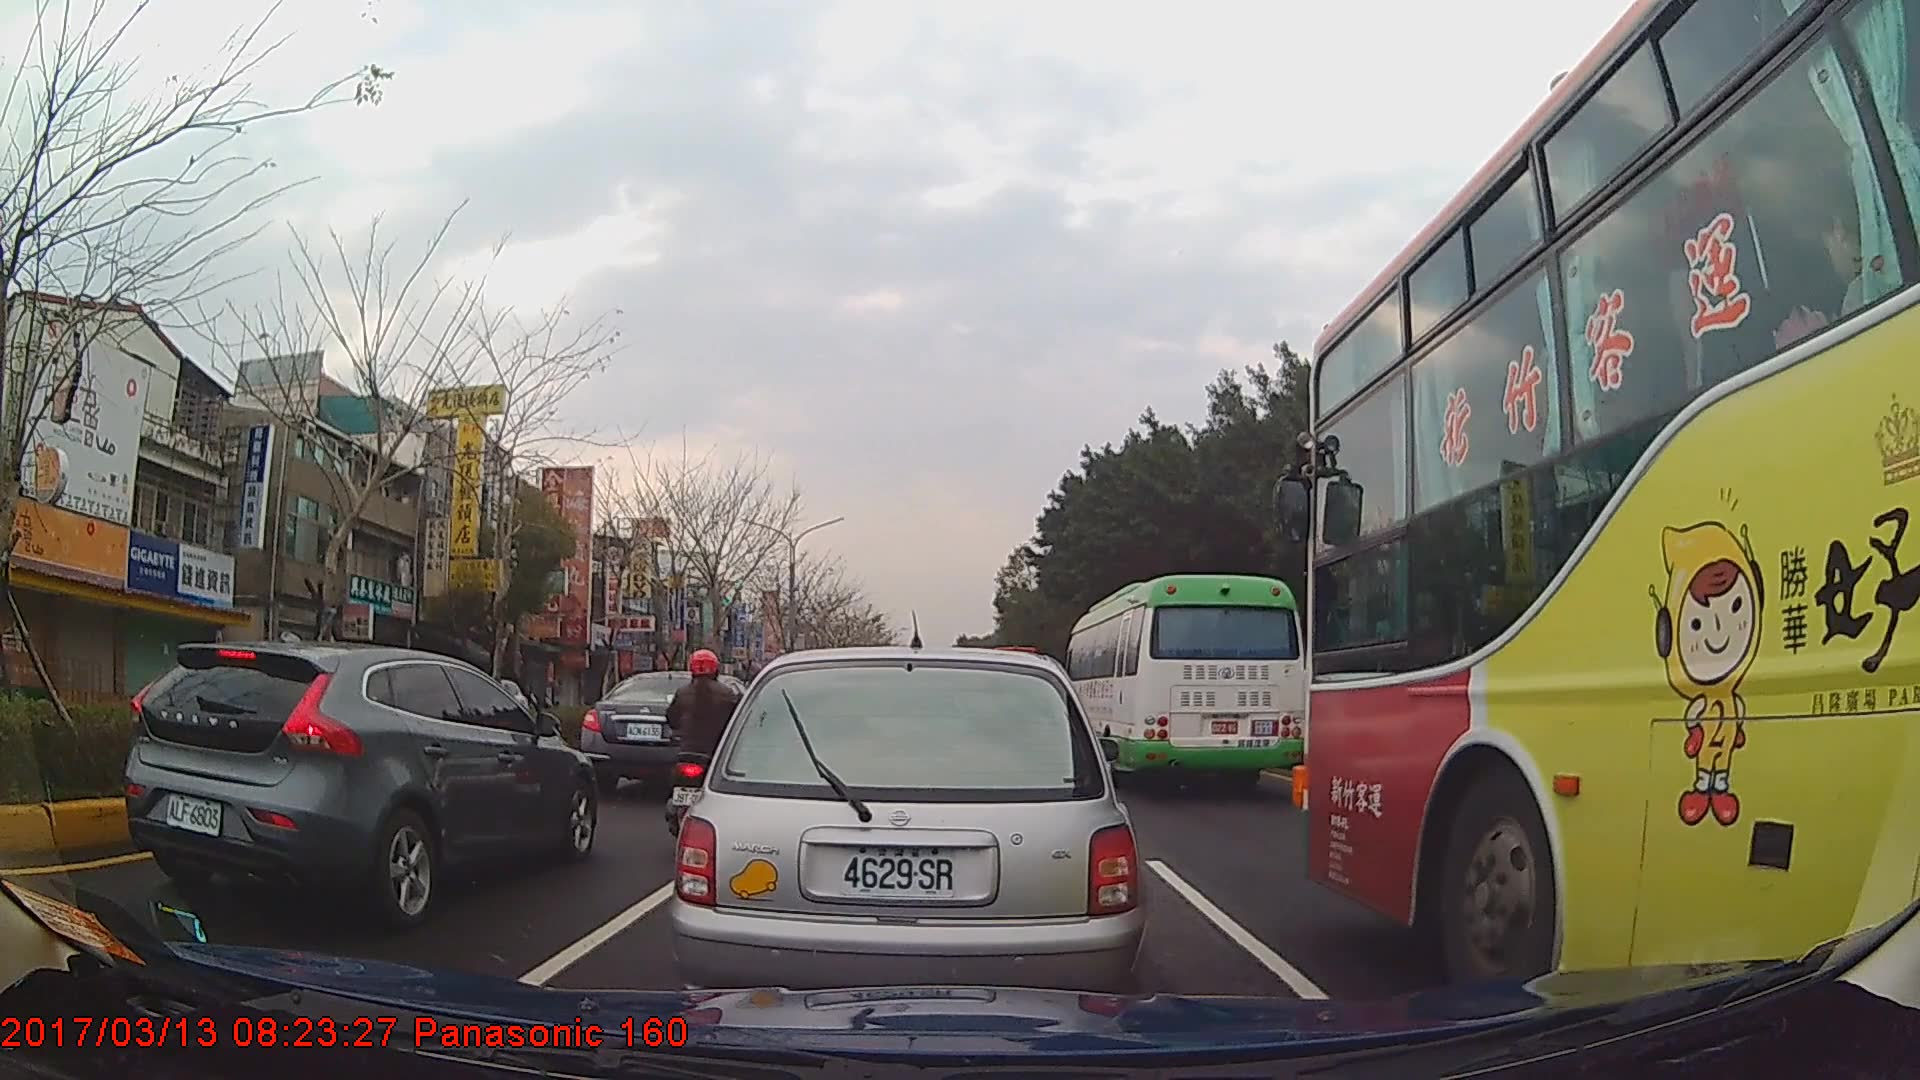rider: (662, 646, 752, 843)
vehicle: (1304, 0, 1920, 1004), (674, 640, 1146, 1021), (122, 637, 601, 931), (1062, 573, 1308, 791), (579, 672, 757, 792)
